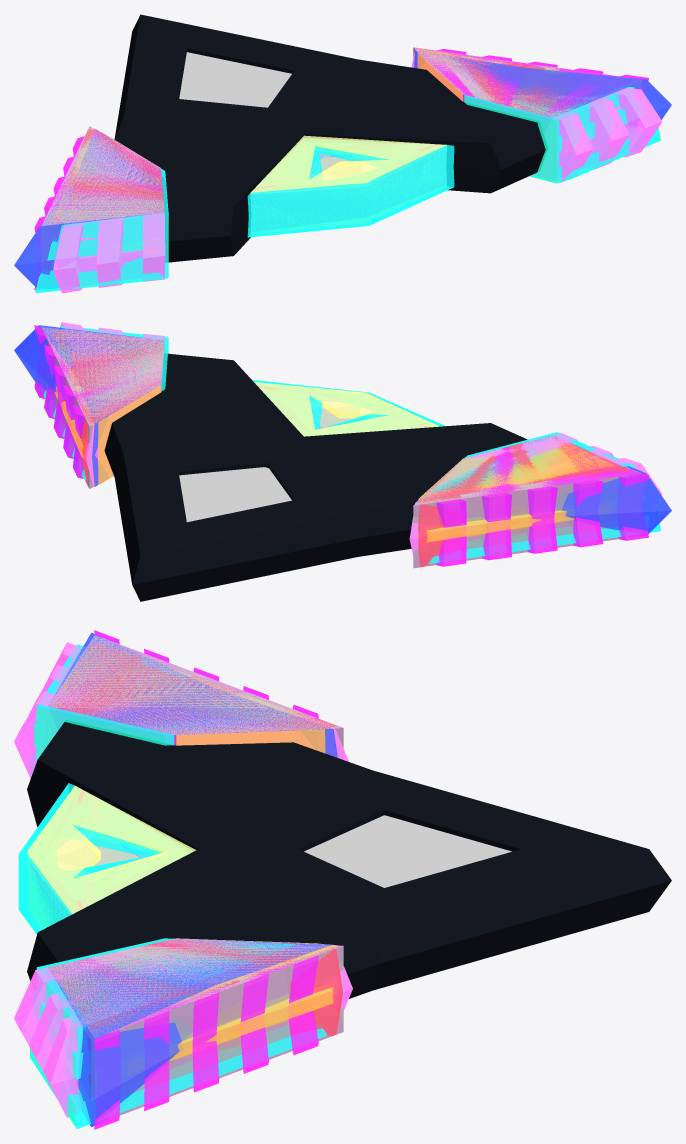
The picture shows the model from 3 angles, top to bottom: view 1: azimuth 30°, elevation 25°; view 2: azimuth 150°, elevation 25°; view 3: azimuth 270°, elevation 25°; orthographic projection. The views are drawn at different scales.
Visible parts, largest first — view 1: GG, shotAbility_3, shotAbility_6, moveAbility_4, shotAbility_2, shotAbility_blank, shotAbility_1, shotAbility_5, moveAbility_3, Plane, moveAbility_blank, shotAbility_4; view 2: GG, shotAbility_blank, shotAbility_5, shotAbility_1, shotAbility_2, shotAbility_4, shotAbility_3, shotAbility_6, moveAbility_3, moveAbility_4, Plane, moveAbility_blank; view 3: GG, shotAbility_blank, shotAbility_2, shotAbility_5, shotAbility_3, shotAbility_1, shotAbility_6, moveAbility_4, moveAbility_3, Plane, shotAbility_4, moveAbility_blank.
Part boxes in pixels (<box>): GG: <box>114,14,547,262</box>; shotAbility_3: <box>53,49,662,293</box>; shotAbility_6: <box>35,82,660,293</box>; moveAbility_4: <box>247,138,454,237</box>; shotAbility_2: <box>14,50,671,288</box>; shotAbility_blank: <box>42,47,640,270</box>; shotAbility_1: <box>53,48,586,222</box>; shotAbility_5: <box>34,47,648,290</box>; moveAbility_3: <box>250,135,446,193</box>; Plane: <box>179,52,291,107</box>; moveAbility_blank: <box>251,152,438,231</box>; shotAbility_4: <box>56,49,570,252</box>; GG: <box>104,353,527,601</box>; shotAbility_blank: <box>42,327,640,568</box>; shotAbility_5: <box>34,325,648,567</box>; shotAbility_1: <box>52,330,628,567</box>; shotAbility_2: <box>14,325,671,536</box>; shotAbility_4: <box>54,334,614,542</box>; shotAbility_3: <box>60,322,662,556</box>; shotAbility_6: <box>40,325,660,563</box>; moveAbility_3: <box>254,382,439,436</box>; moveAbility_4: <box>252,380,445,435</box>; Plane: <box>179,467,291,522</box>; moveAbility_blank: <box>312,406,359,428</box>; GG: <box>27,720,671,998</box>; shotAbility_blank: <box>48,635,343,1118</box>; shotAbility_2: <box>49,632,337,1127</box>; shotAbility_5: <box>49,630,342,1129</box>; shotAbility_3: <box>14,642,352,1117</box>; shotAbility_1: <box>48,643,342,1080</box>; shotAbility_6: <box>30,644,327,1128</box>; moveAbility_4: <box>18,783,192,934</box>; moveAbility_3: <box>27,785,196,914</box>; Plane: <box>304,815,511,887</box>; shotAbility_4: <box>48,653,338,1074</box>; moveAbility_blank: <box>31,838,142,920</box>.
Size of the model in its own units: 268 by 24.35 by 168.
